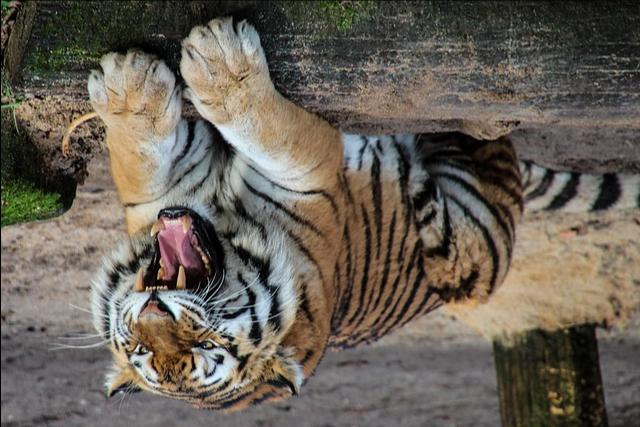Non_Gorille: (33, 30, 580, 424)
